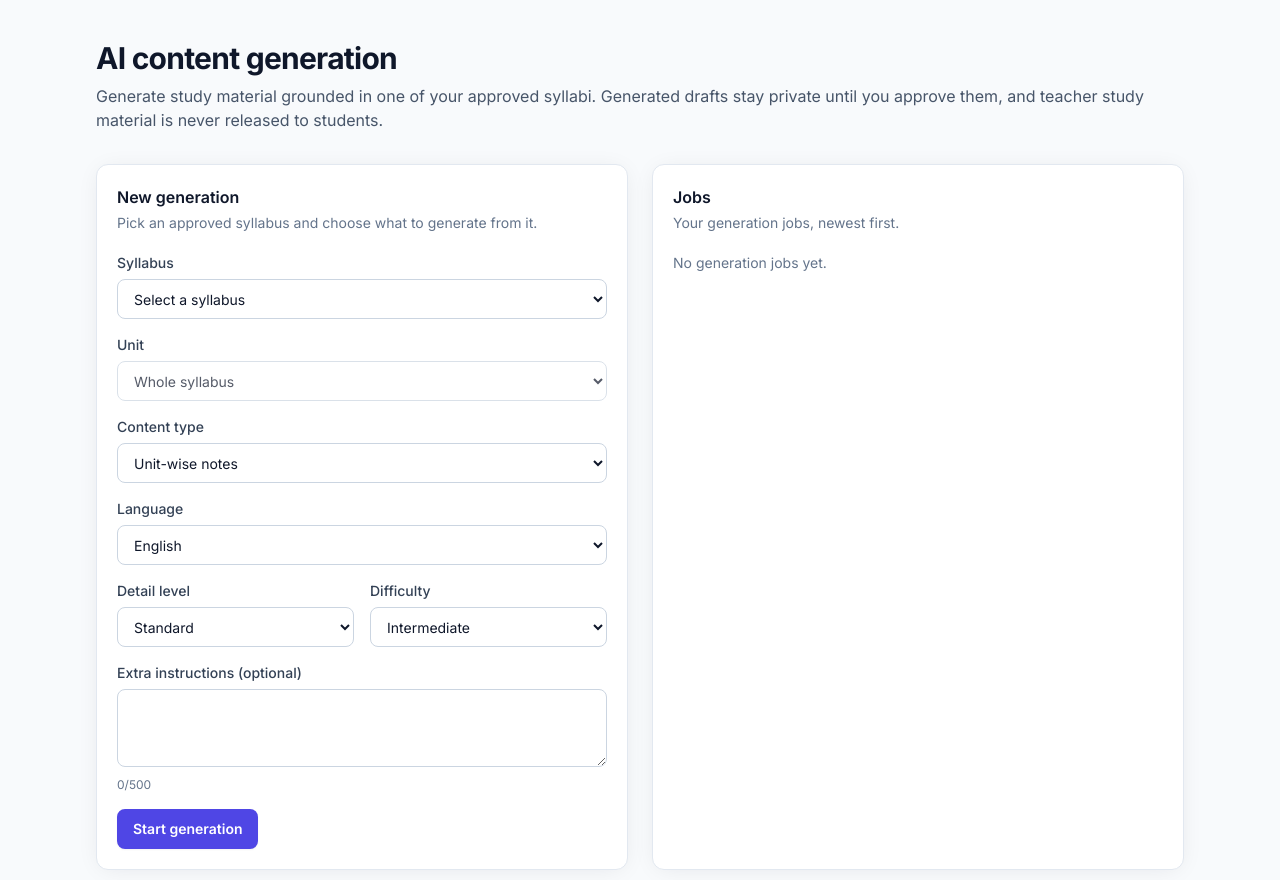
Test: TeacherContent › surfaces a server-side validation error
Select "CS101 · SEC-A (v2)" in the dropdown labelled "Syllabus" at (362, 299), box [117,279,607,319]
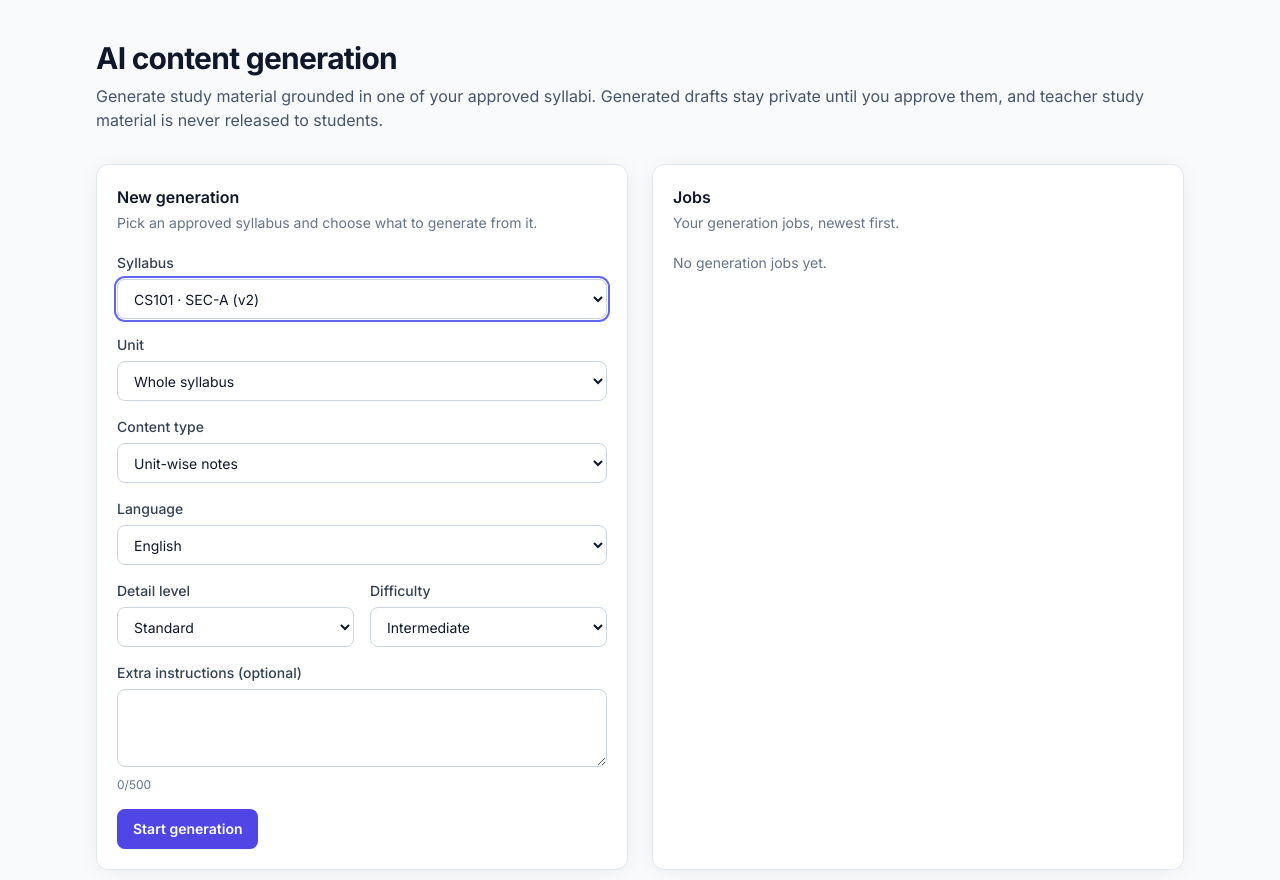
Click the button "Start generation" at (188, 829), box [117,809,258,849]
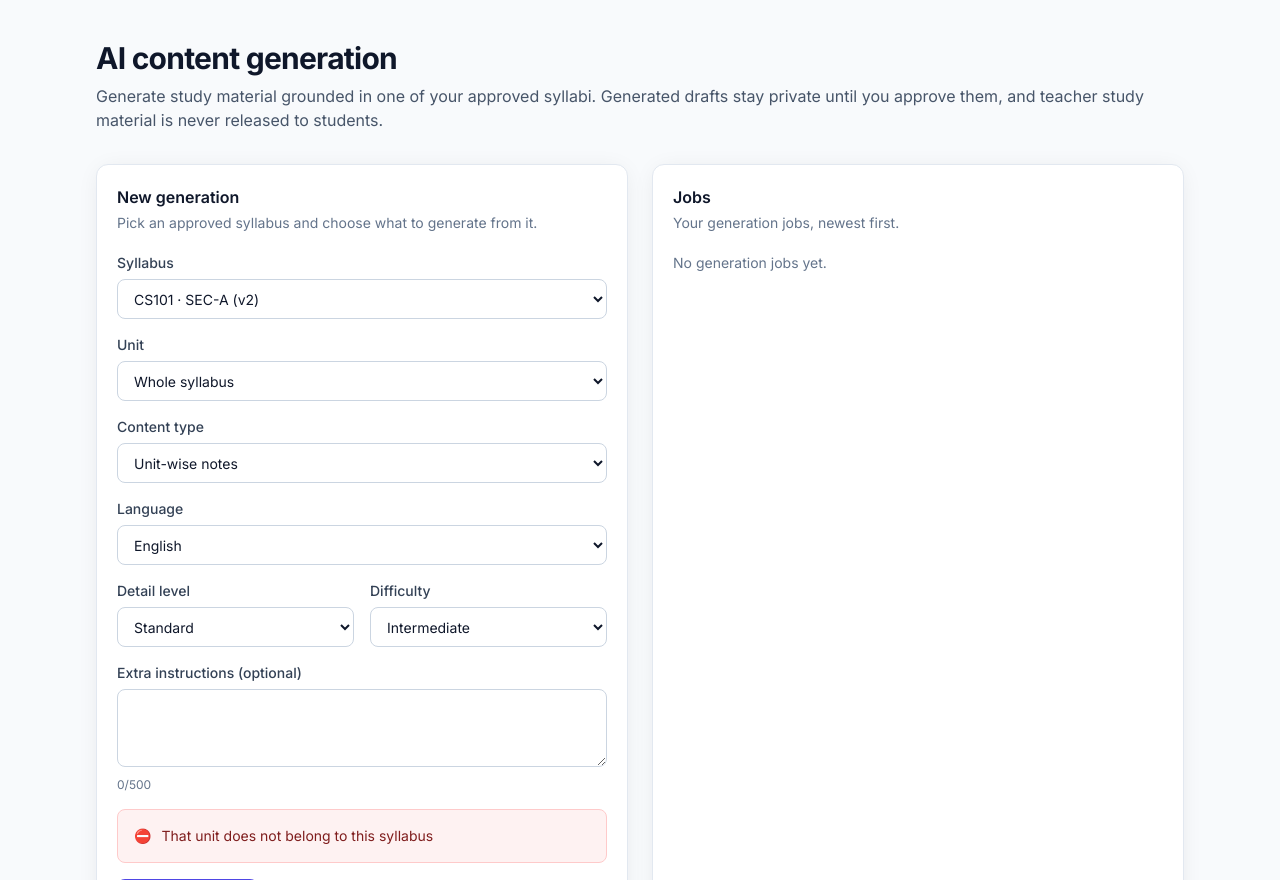
expect the text "That unit does not belong to this syllabus" is shown: met, box [162,827,433,844]
